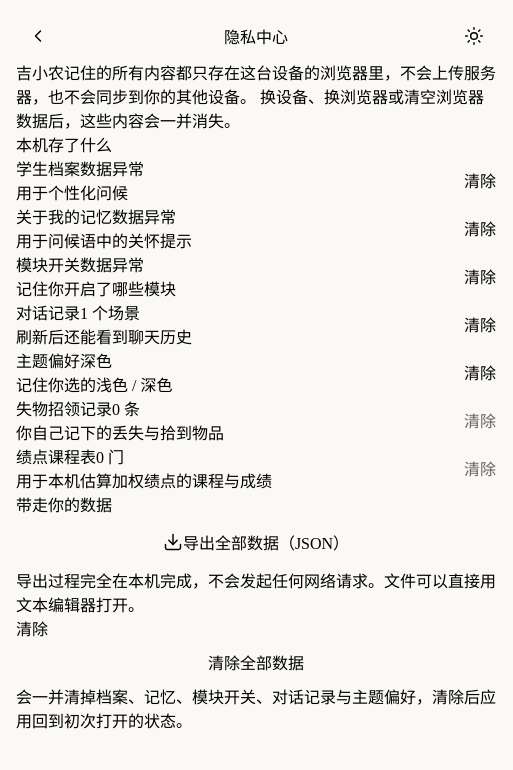
Test: PrivacyPage —— 单项清除 › 清除后该行按钮变为禁用（清单实时刷新）
This screenshot has width=513, height=770.
Click the button "清除" in the row of "用于个性化问候" at (480, 180), box x1=464 y1=164 x2=496 y2=196
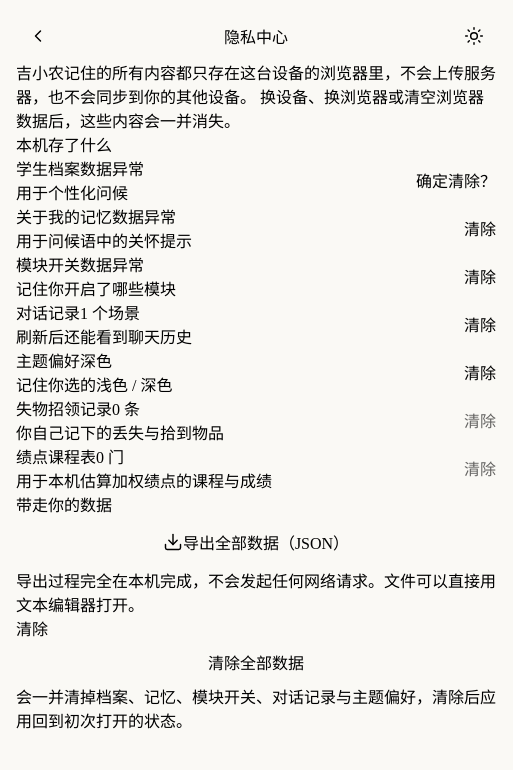
Click the button "确定清除？" at (456, 180), box x1=416 y1=164 x2=496 y2=196
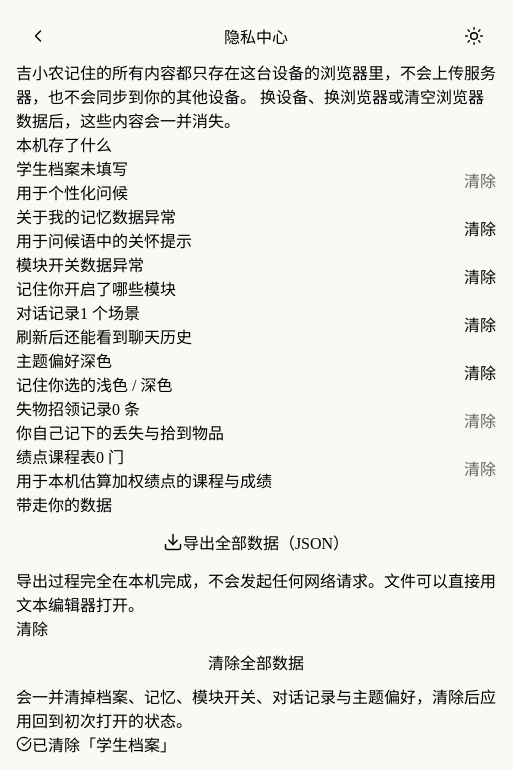
Result: the button "清除" in the row of "未填写" is disabled at x1=464 y1=164 x2=496 y2=196
